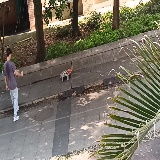fire: (67, 66, 73, 74)
